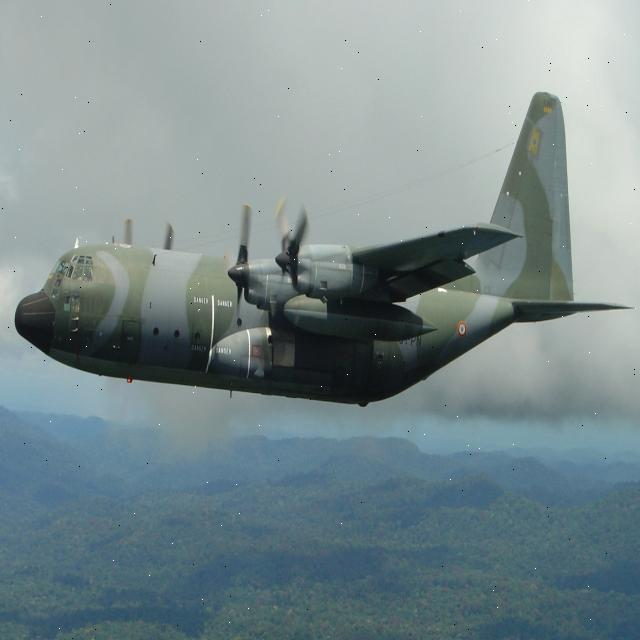C130: (2, 88, 634, 420)
